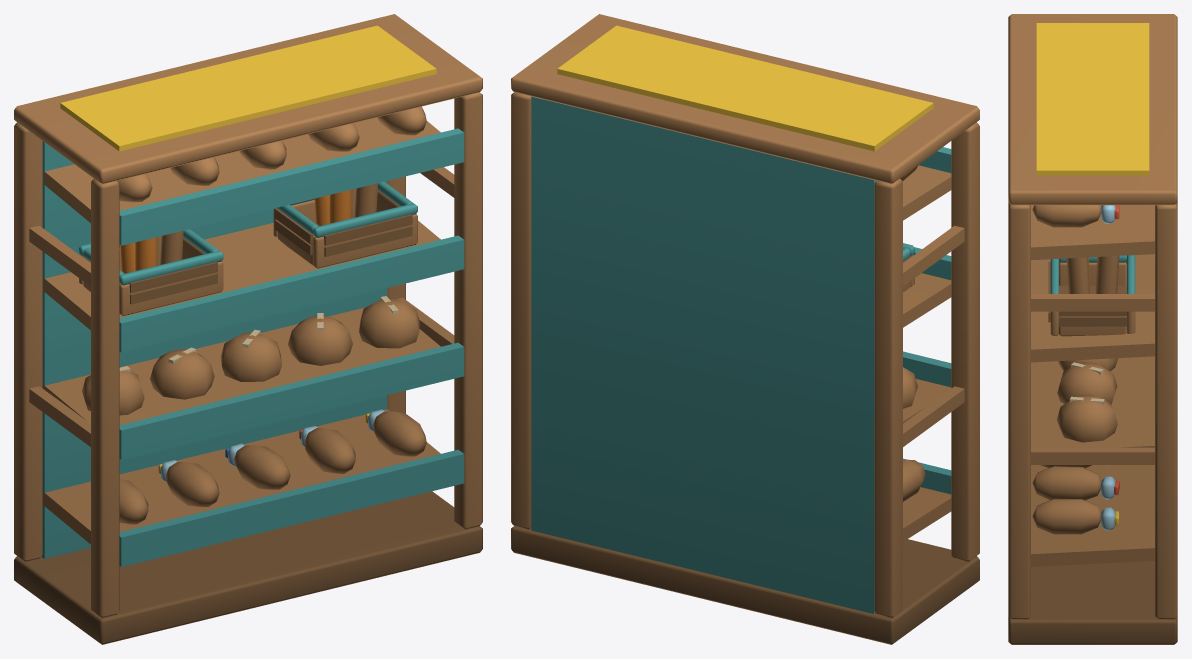
File: BakeryRack_15_Stocked.glb
The picture shows the model from 3 angles, left to right: view 1: azimuth 30°, elevation 25°; view 2: azimuth 150°, elevation 25°; view 3: azimuth 270°, elevation 25°; orthographic projection. The views are drawn at different scales.
Visible parts, largest first — view 1: SM_BakeryRack_15_Stocked; view 2: SM_BakeryRack_15_Stocked; view 3: SM_BakeryRack_15_Stocked.
Boxes of the visible parts, x1=… form: SM_BakeryRack_15_Stocked: x1=14, y1=14, x2=482, y2=644; SM_BakeryRack_15_Stocked: x1=511, y1=14, x2=979, y2=644; SM_BakeryRack_15_Stocked: x1=1008, y1=14, x2=1177, y2=644.
Size of the model in its own units: 1.5 by 1.8 by 0.6.
1 material, 1 textured.
